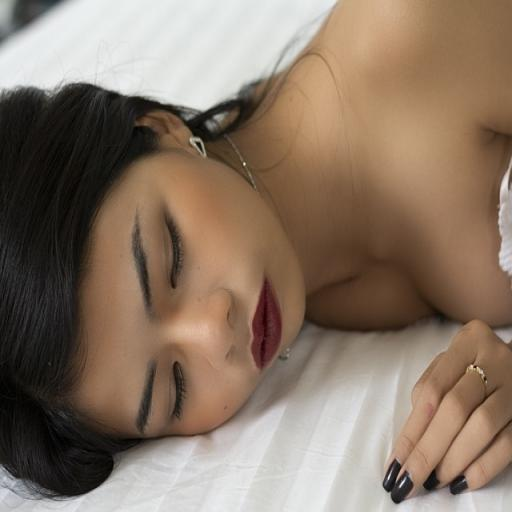lipstick: (252, 279, 281, 369)
